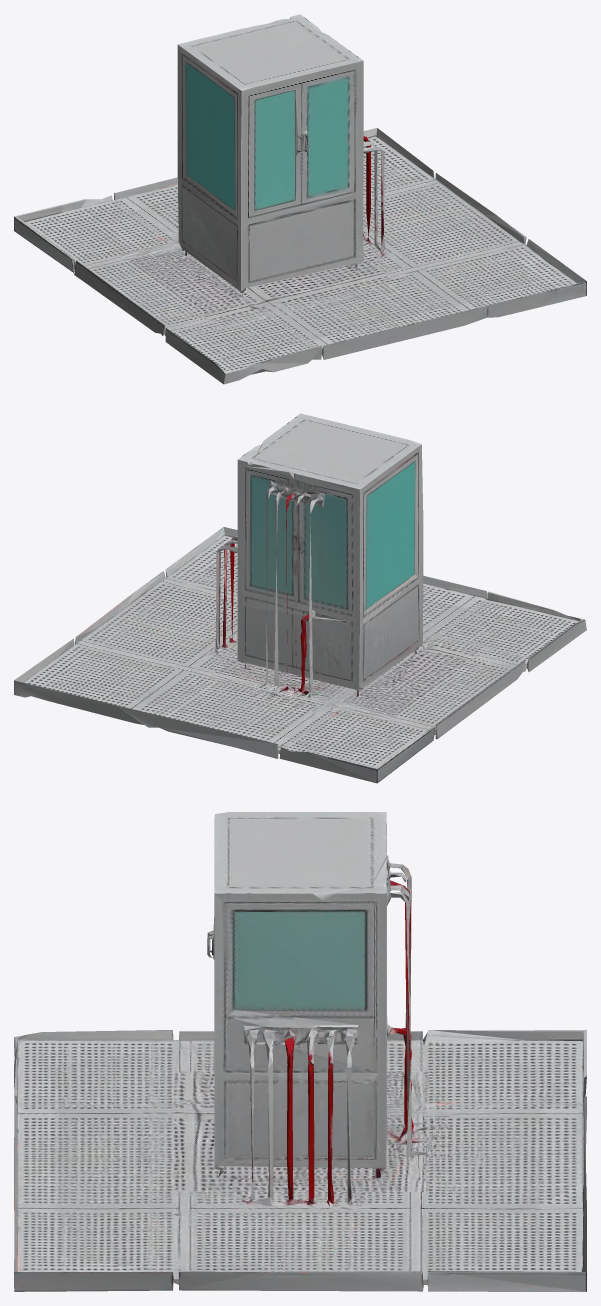
Rendered from hookup.glb.
3 views of the same model, one above another, from view 1: azimuth 30°, elevation 25°; view 2: azimuth 150°, elevation 25°; view 3: azimuth 270°, elevation 25° (orthographic). The views are drawn at different scales.
Bounding box in the file's own units: 1.9 × 1.09 × 1.9.
Materials: 1 (1 with a texture image).
